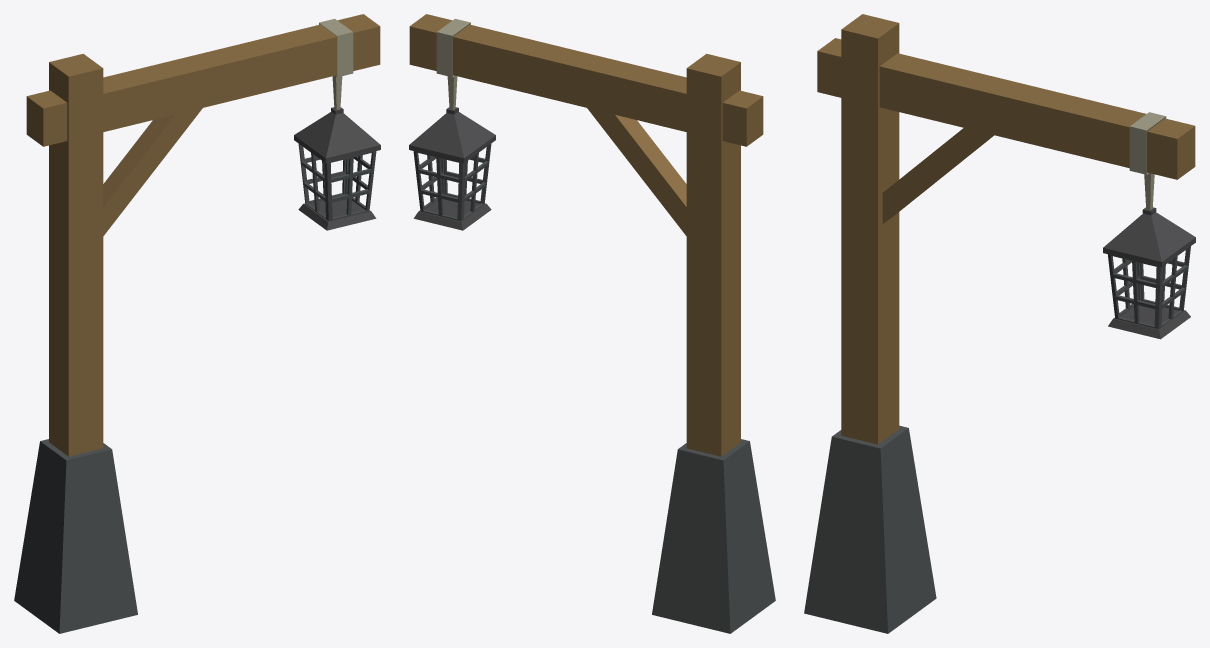
Rendered from Lamp2_General.fbx.
3 views of the same model, side by side, from view 1: azimuth 30°, elevation 25°; view 2: azimuth 150°, elevation 25°; view 3: azimuth 330°, elevation 25° (orthographic). The views are drawn at different scales.
Parts seen in each view (by area): view 1: Cube; view 2: Cube; view 3: Cube.
Part boxes in pixels (bbox=[...]): Cube: bbox=[14, 14, 380, 633]; Cube: bbox=[409, 14, 775, 633]; Cube: bbox=[804, 14, 1195, 633].
Size of the model in its own units: 170 by 262 by 39.78.
